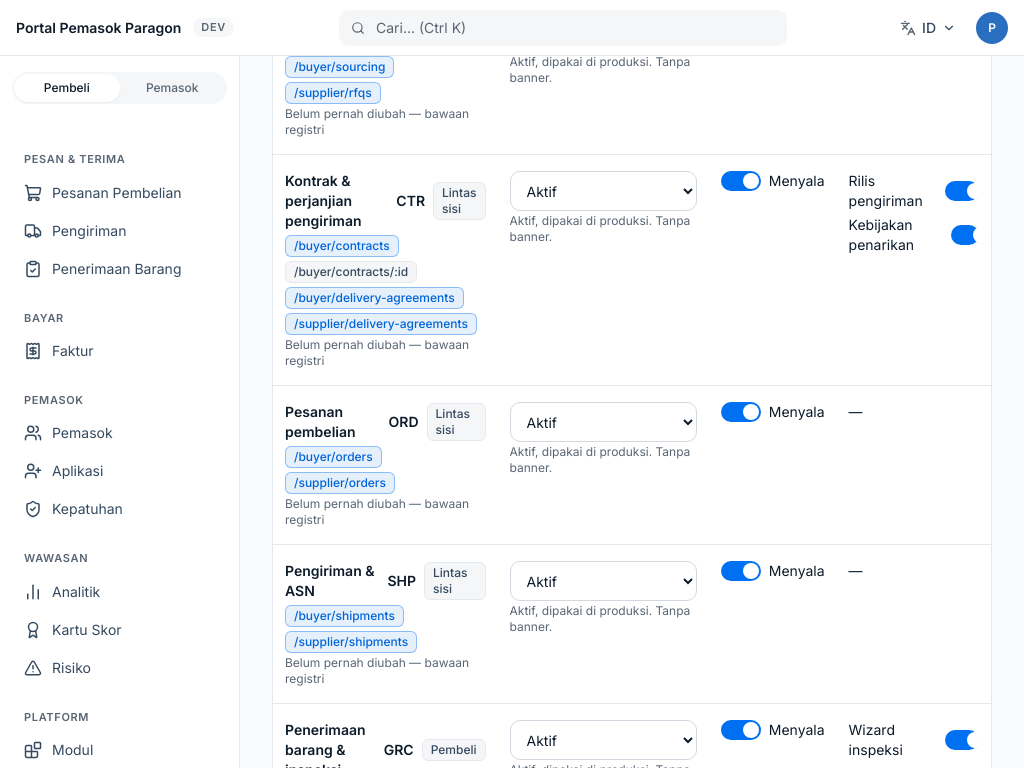
Test: admin page — Save dispatches only the changed rows › the refusal names the dependants in Indonesian too — derived, not parsed from the hook’s English
(page scrolled)
Click the switch named "Aktifkan atau nonaktifkan ORD". click: (741, 412)
box: top-left (721, 402), bottom-right (761, 422)
(page scrolled)
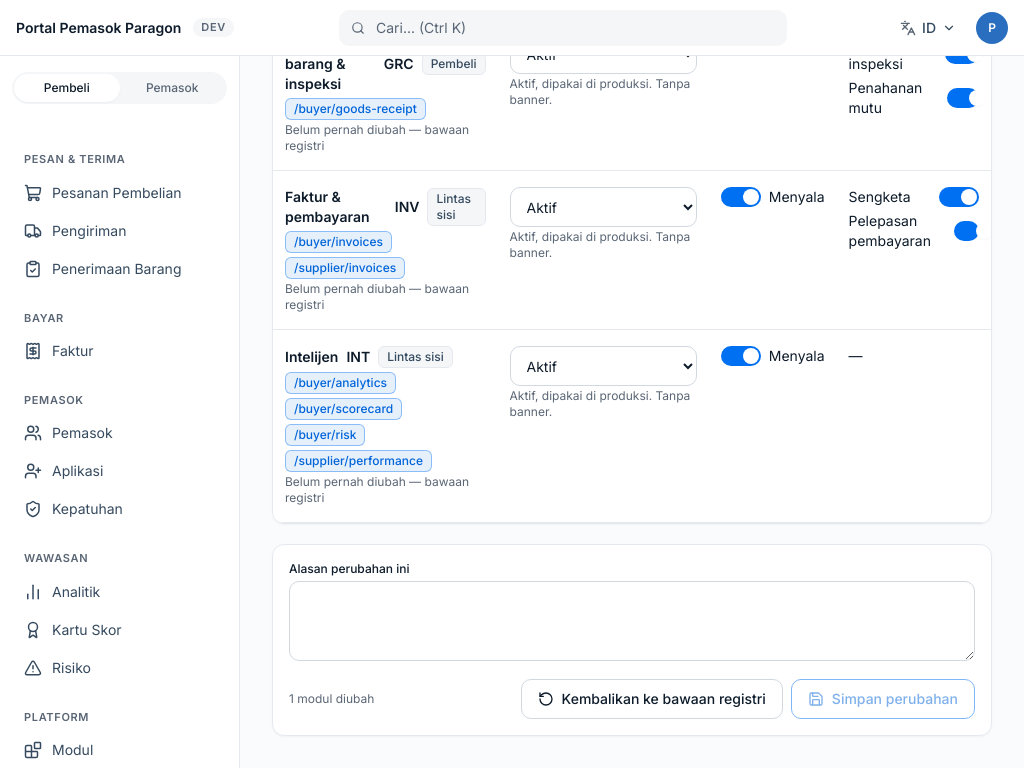
Type "coba" into the text box with test id "modules-batch-reason". click: (632, 621)
box: top-left (289, 581), bottom-right (975, 661)
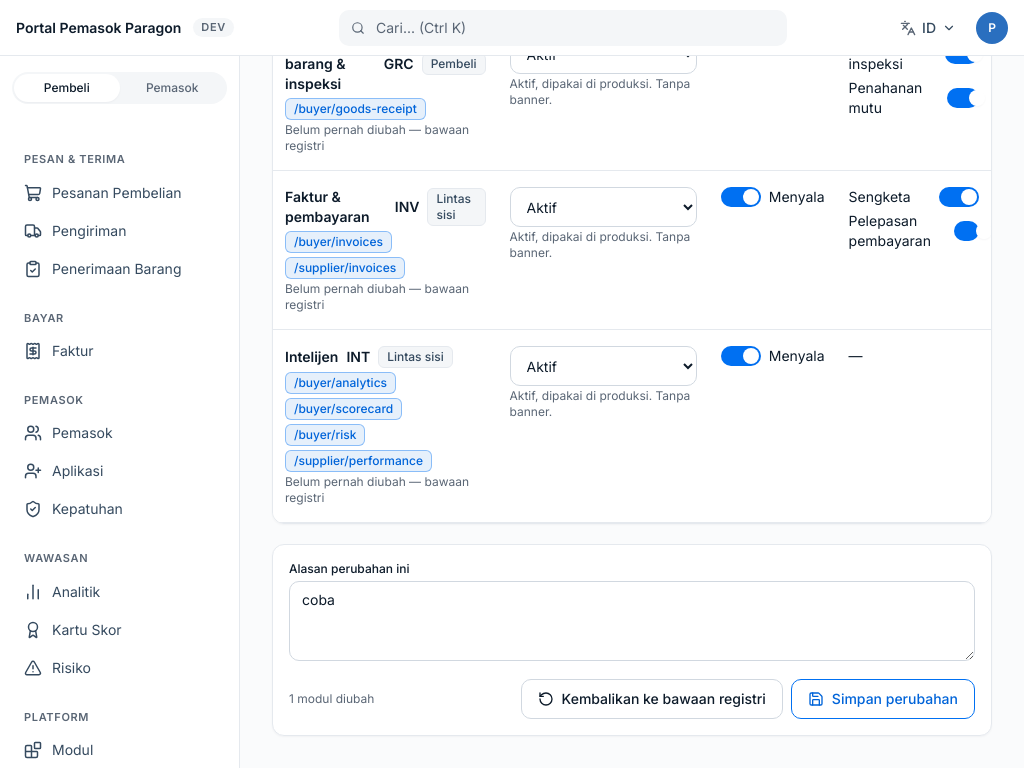
Click the button with test id "modules-save". click: (883, 699)
box: top-left (791, 679), bottom-right (975, 719)
(page scrolled)
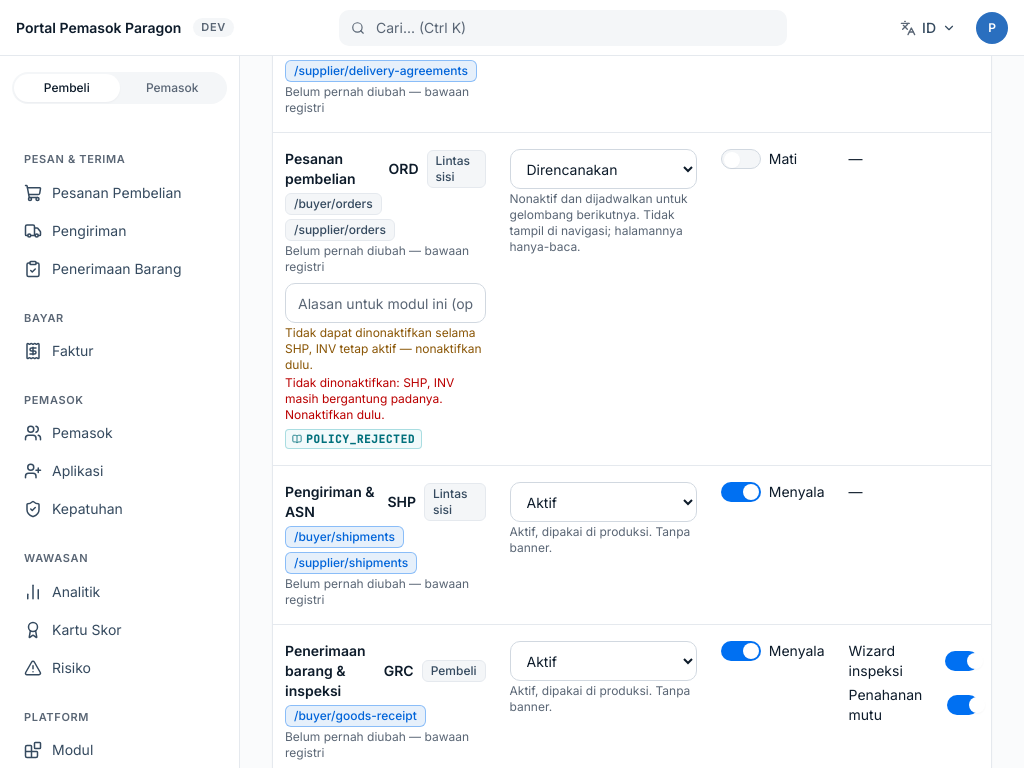
Result: the element with test id "module-result-ORD" shows "Tidak dinonaktifkan: SHP, INV masih bergantung padanya" at top-left (285, 375), bottom-right (454, 422)
